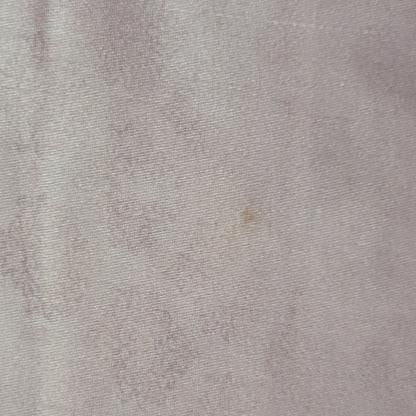spot: (236, 196, 268, 226)
